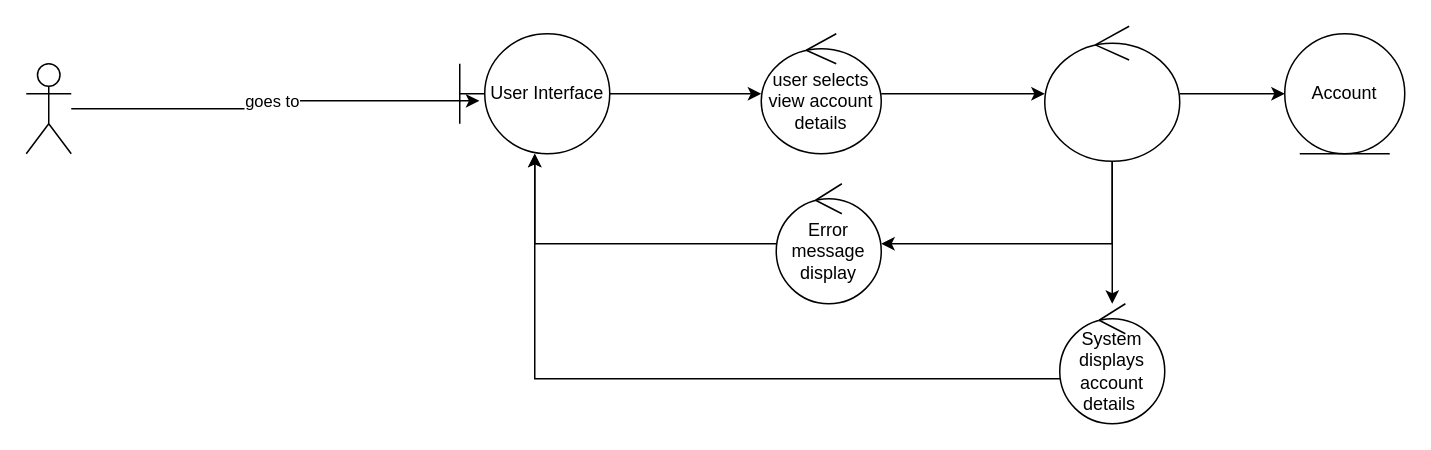
Image size: 1431x450. Some labels were removed from this diagram. Here are the shapes that lost their labels. From the top down, the centre of each, then its label:
point (48, 108): User
point (1111, 93): System gets account details from database
